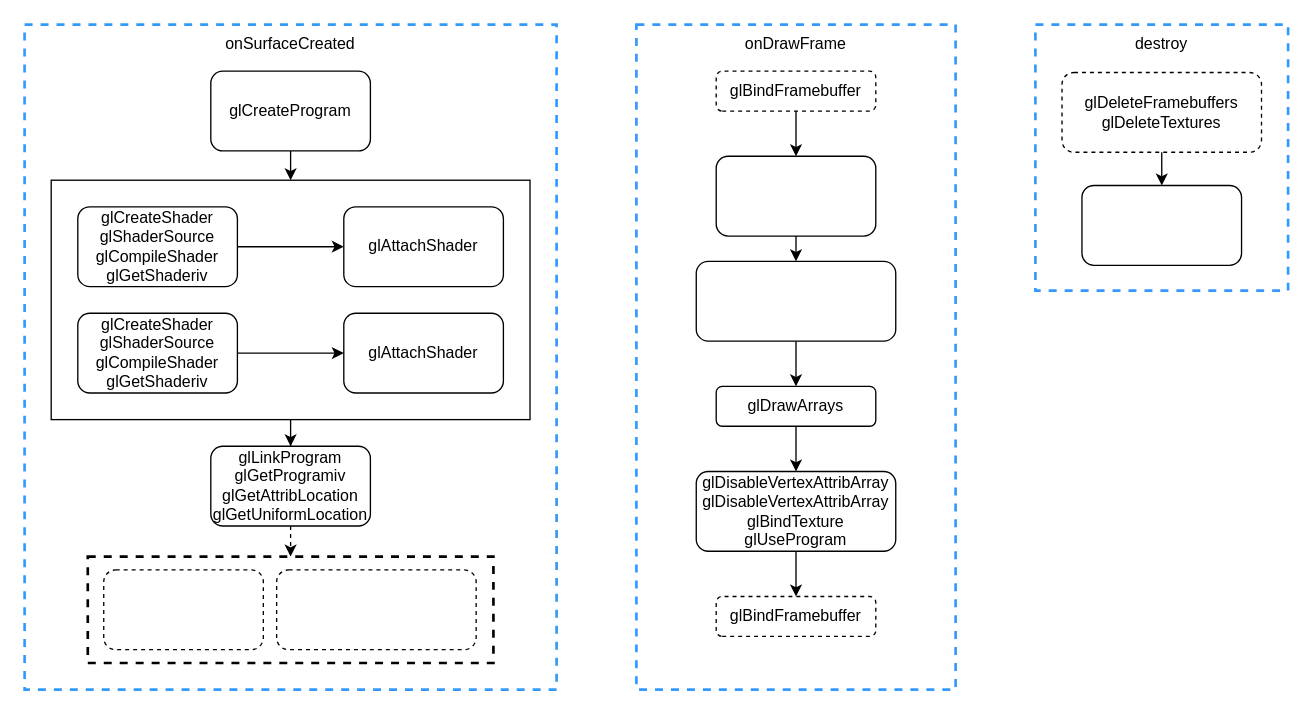
This 1311x713 diagram has some shape labels left out. Each missing label, with the box of its shape:
glDeleteProgram: (1081, 184, 1242, 265)
glGenFramebuffers glBindFramebuffer glFramebufferTexture2D glBindFramebuffer: (275, 569, 476, 650)
glGenTextures glActiveTexture glBindTexture glTexImage2D: (102, 569, 263, 650)
glUniformMatrix4fv glEnableVertexAttribArray glVertexAttribPointer: (695, 260, 896, 341)
glViewport glUseProgram glActiveTexture glBindTexture: (715, 155, 876, 236)
